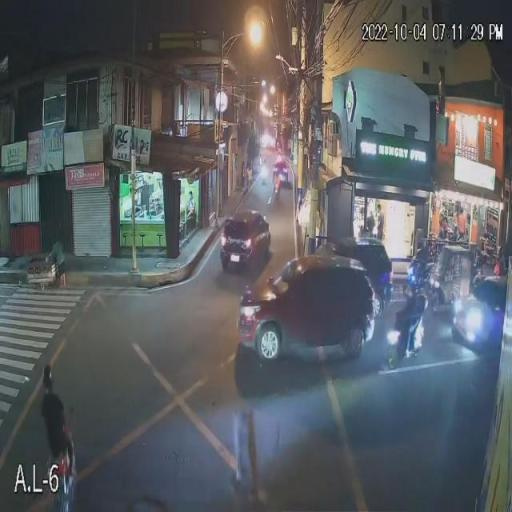helmet: (42, 363, 60, 391), (404, 282, 418, 303)
motorcycle: (44, 426, 86, 495), (388, 322, 426, 369)
rider: (36, 351, 68, 449), (400, 275, 425, 328)
